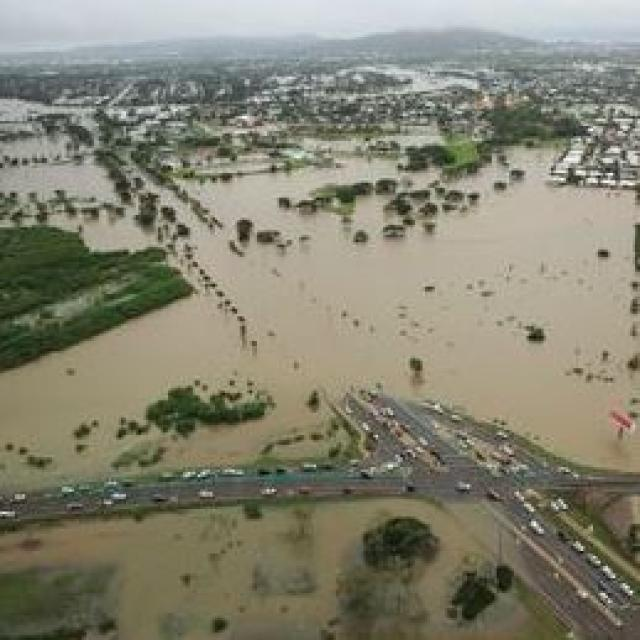flooded_areas: (0, 109, 625, 477)
